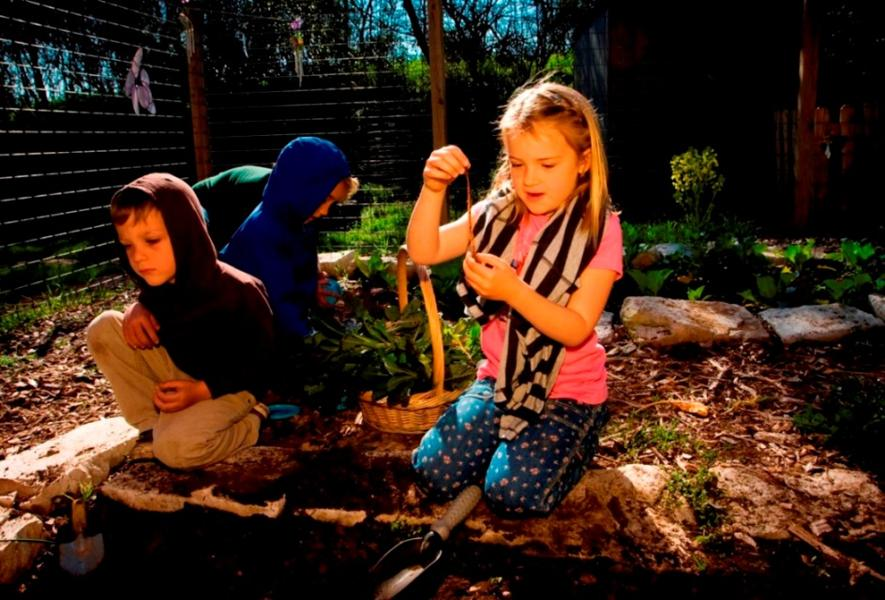person: (407, 83, 623, 518)
